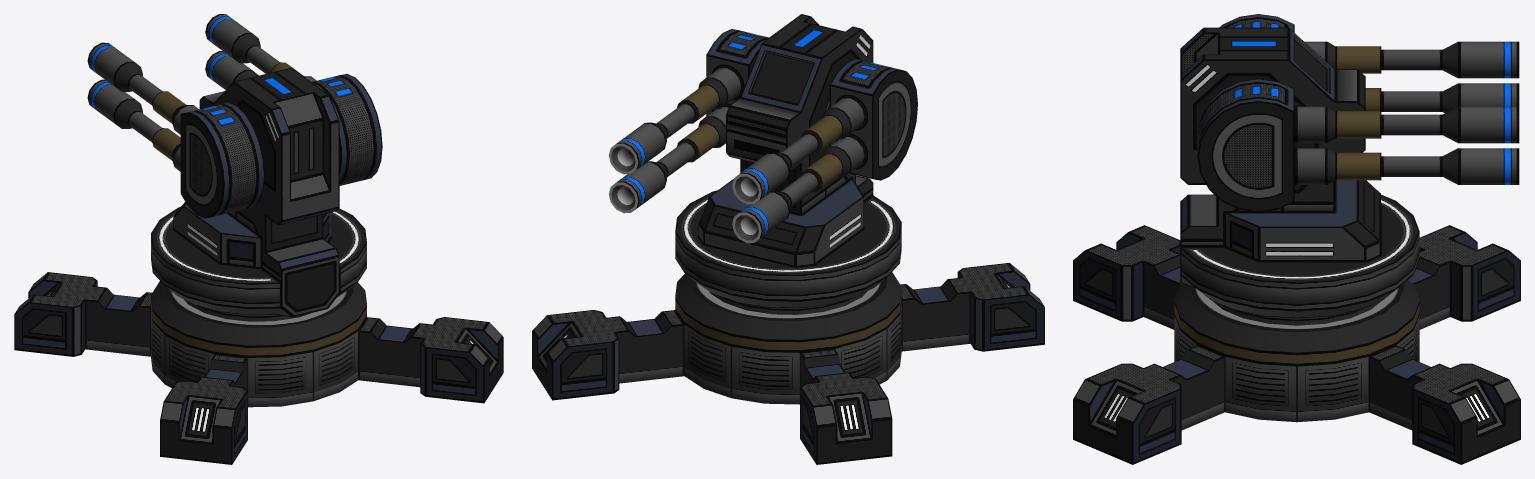
File: AAGun_001.fbx
3 views of the same model, side by side, from view 1: azimuth 30°, elevation 25°; view 2: azimuth 150°, elevation 25°; view 3: azimuth 270°, elevation 25° (orthographic). The views are drawn at different scales.
Parts seen in each view (by area): view 1: base, turret_y, turret_x, recoil1, recoil4, recoil2, recoil3, recoilBase1, recoilBase2; view 2: base, turret_y, turret_x, recoil4, recoil1, recoil2, recoil3, recoilBase1, recoilBase4, recoilBase2, recoilBase3; view 3: base, turret_y, turret_x, recoil1, recoil4, recoil3, recoil2, recoilBase3, recoilBase4, recoilBase1.
Part boxes in pixels (left/top/right/bottom): base: left=14, top=272, right=503, bottom=464; turret_y: left=151, top=67, right=366, bottom=317; turret_x: left=180, top=74, right=382, bottom=218; recoil1: left=87, top=42, right=162, bottom=105; recoil4: left=205, top=14, right=279, bottom=73; recoil2: left=87, top=79, right=162, bottom=142; recoil3: left=205, top=51, right=258, bottom=89; recoilBase1: left=152, top=91, right=198, bottom=134; recoilBase2: left=152, top=128, right=180, bottom=171; base: left=532, top=263, right=1044, bottom=464; turret_y: left=675, top=14, right=901, bottom=308; turret_x: left=706, top=29, right=917, bottom=180; recoil4: left=608, top=103, right=695, bottom=174; recoil1: left=732, top=133, right=819, bottom=204; recoil2: left=732, top=172, right=819, bottom=243; recoil3: left=609, top=142, right=695, bottom=213; recoilBase1: left=800, top=97, right=865, bottom=153; recoilBase4: left=677, top=67, right=742, bottom=123; recoilBase2: left=800, top=136, right=865, bottom=192; recoilBase3: left=677, top=106, right=728, bottom=162; base: left=1073, top=225, right=1520, bottom=464; turret_y: left=1180, top=27, right=1419, bottom=318; turret_x: left=1197, top=14, right=1294, bottom=212; recoil1: left=1381, top=41, right=1519, bottom=78; recoil4: left=1381, top=106, right=1519, bottom=143; recoil3: left=1381, top=148, right=1519, bottom=184; recoil2: left=1381, top=83, right=1519, bottom=112; recoilBase3: left=1294, top=148, right=1381, bottom=184; recoilBase4: left=1294, top=106, right=1381, bottom=143; recoilBase1: left=1304, top=41, right=1381, bottom=73.
Size of the model in its own units: 584 by 470 by 584.
